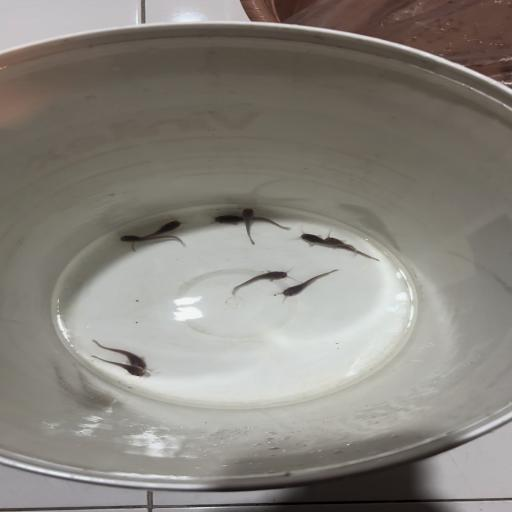lele: (83, 338, 160, 370), (230, 266, 297, 298), (128, 217, 186, 253), (278, 268, 342, 300), (294, 226, 362, 256), (204, 210, 293, 230), (321, 234, 381, 260), (84, 356, 150, 378), (235, 206, 264, 245), (115, 234, 194, 248)
